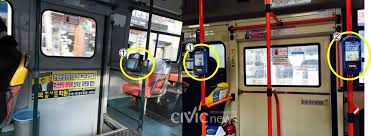exit: (230, 25, 341, 136)
